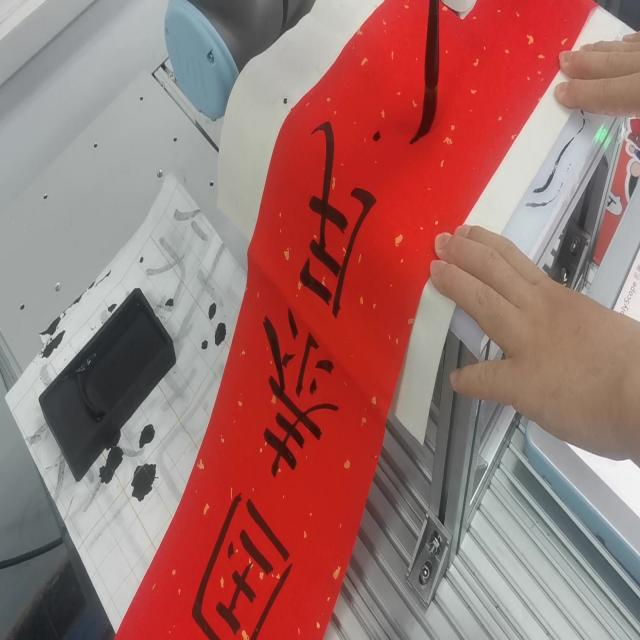head: (404, 90, 442, 146)
inkstone: (36, 282, 178, 480)
